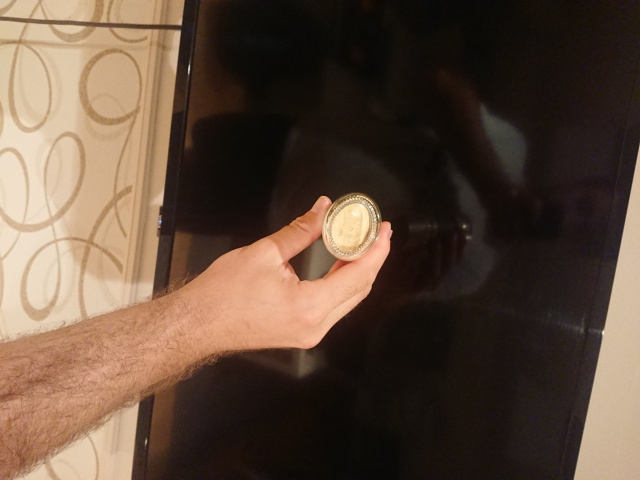Kotanyi Garlic Granules 70g: (319, 190, 384, 264)
